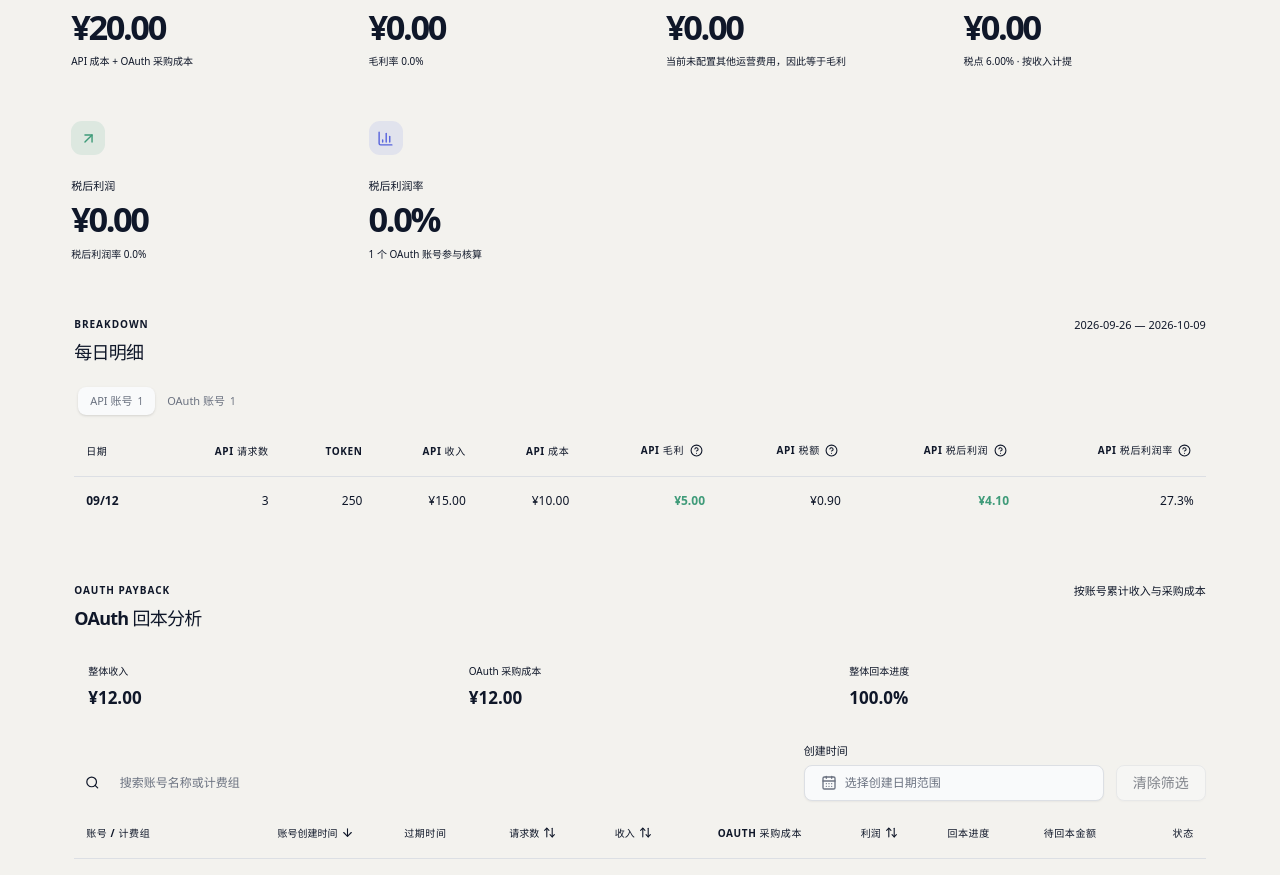
Test: 消费核算 › 按账号类型显示 OAuth 收入和 API 利润列
This screenshot has width=1280, height=875.
(page scrolled)
Expected: the column heading "API 收入" is shown, [374,437,478,477]
Expected: the column heading "API 毛利" is shown, [581,437,717,477]
Hover over the button named "API 毛利计算公式": {"x": 696, "y": 451} [687,442,705,460]
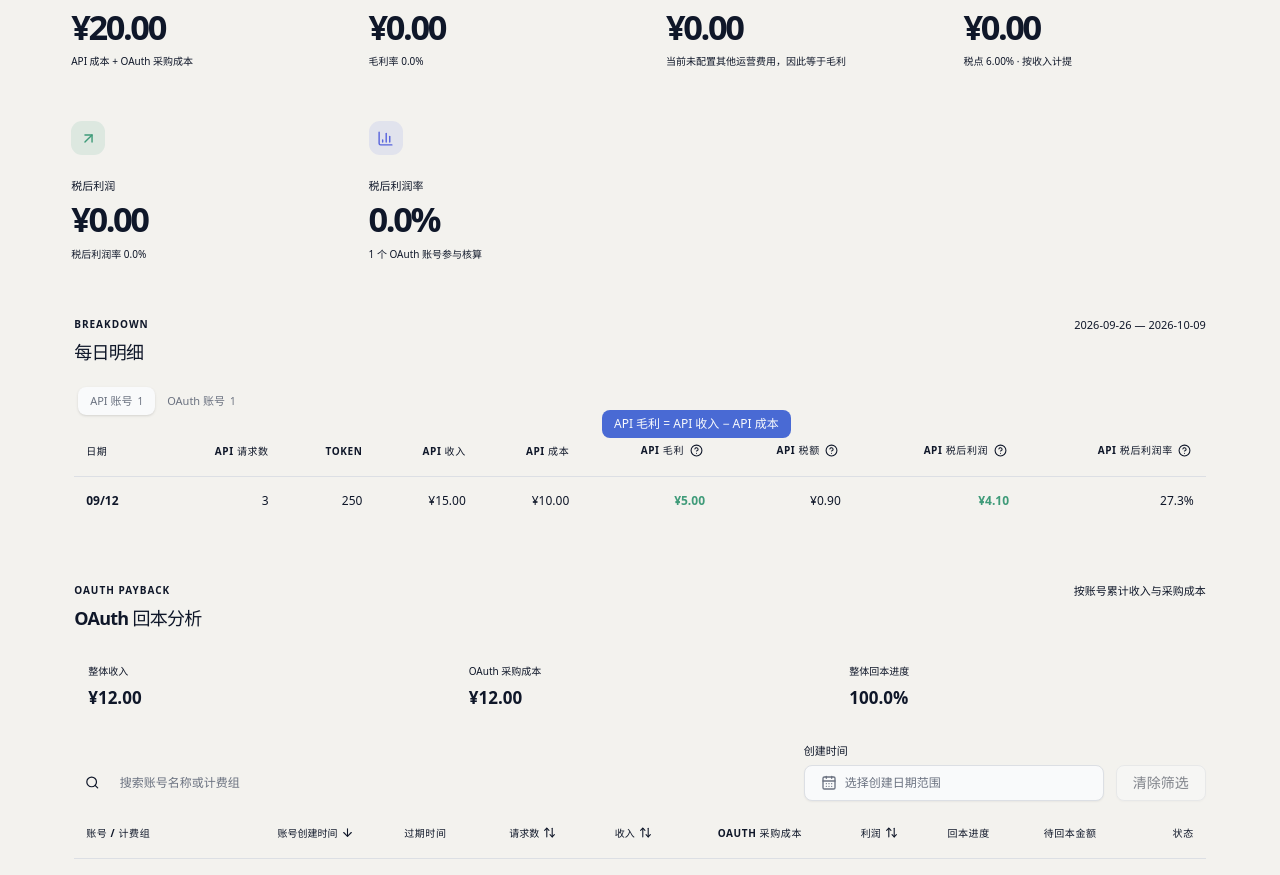
Expected: the text "¥5.00" is shown, [581,477,717,525]
Now the tooltip reads "API 毛利 = API 收入 − API 成本", box [614,415,779,432]
Click the tab "OAuth 账号 1": {"x": 202, "y": 401} [155,387,248,415]
(page scrolled)
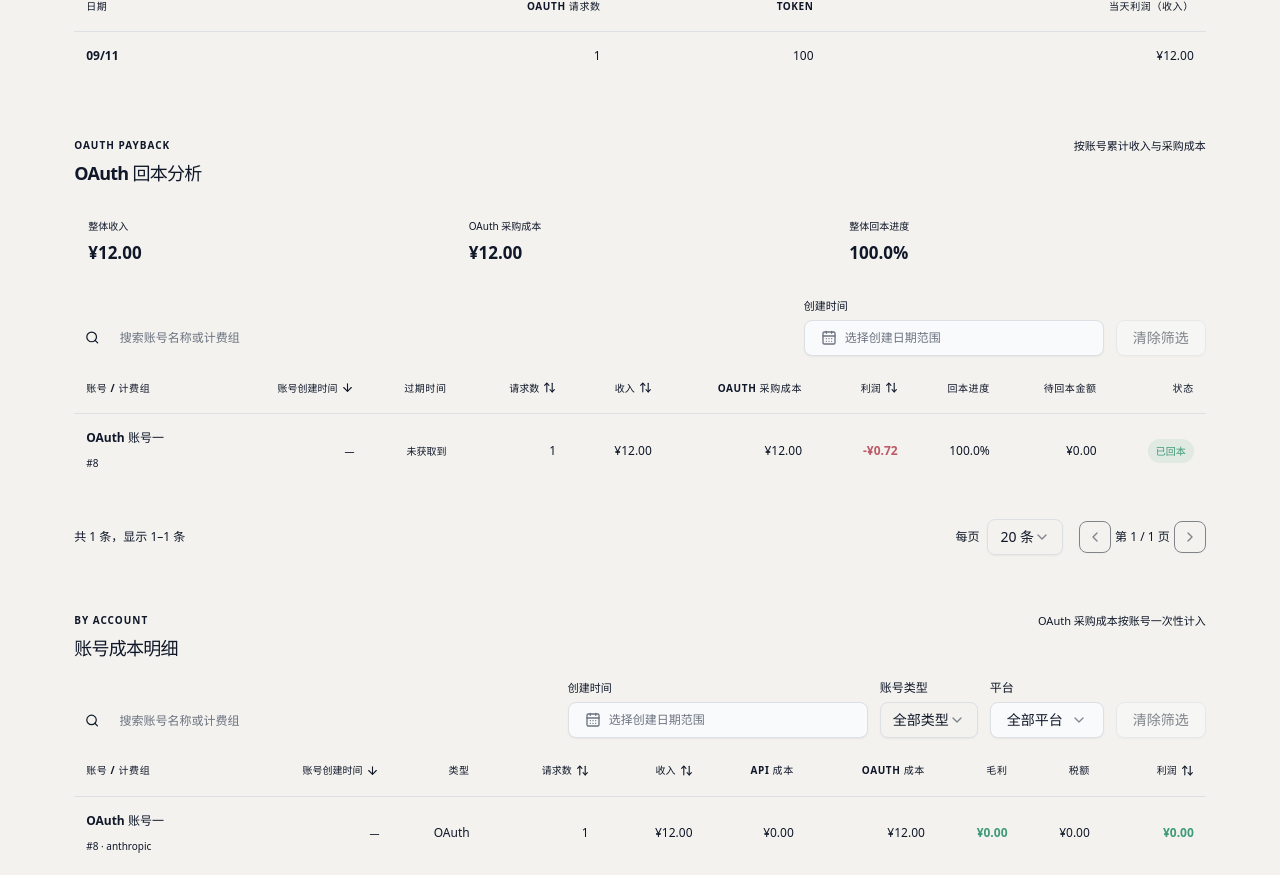
Expected: the heading "OAuth 回本分析" is shown, [74,160,202,187]
Now the text "¥12.00" in the row of "09/11" is shown, box [1156,47,1194,64]
